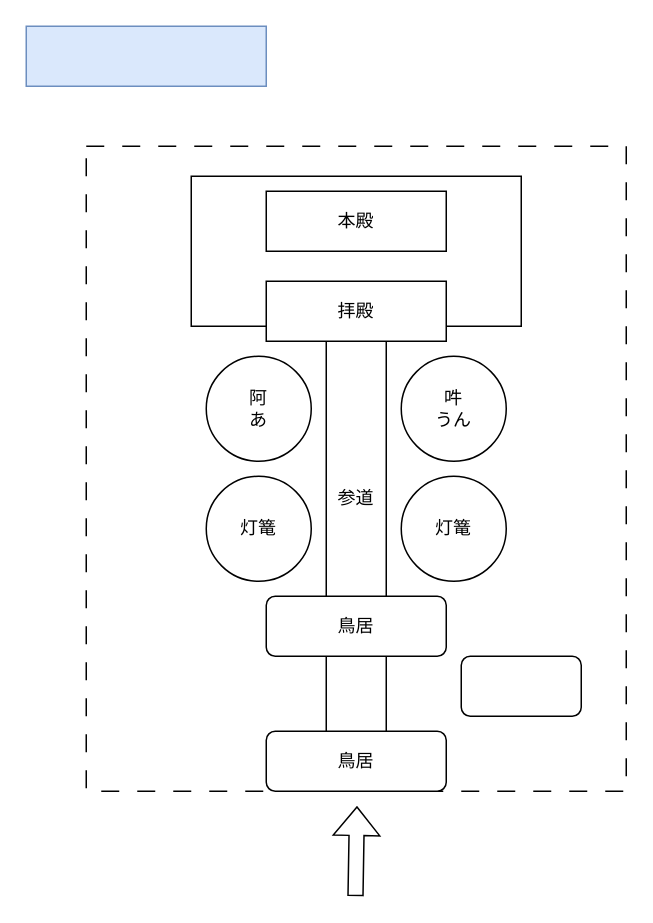
Some shapes in this 653 by 923 pixel diagram are drawn without their labels. Each missing label, with the box of its shape:
手水舎: (460, 655, 581, 716)
神社と参拝: (25, 25, 266, 86)
